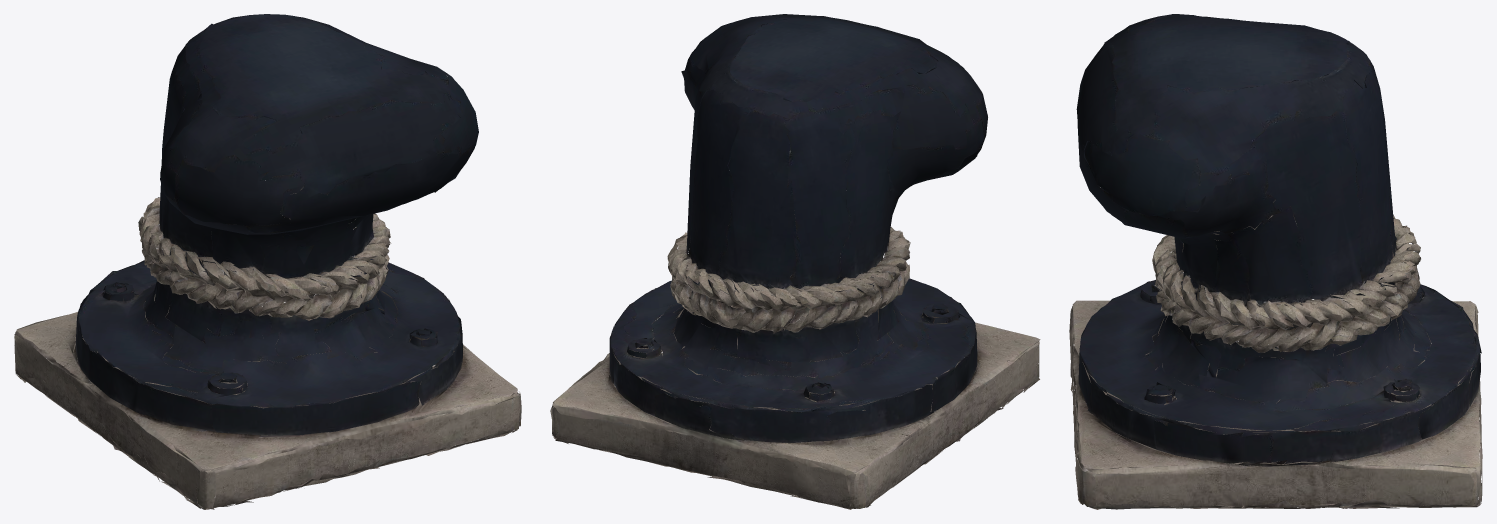
File: bollard.glb
3 renders of one model, left to right at view 1: azimuth 30°, elevation 25°; view 2: azimuth 150°, elevation 25°; view 3: azimuth 270°, elevation 25°, orthographic. The views are drawn at different scales.
Visible parts, largest first — view 1: Mesh_0; view 2: Mesh_0; view 3: Mesh_0.
Part boxes in pixels (x1,y1,x2,y2): Mesh_0: (14, 14, 521, 509); Mesh_0: (550, 14, 1040, 509); Mesh_0: (1069, 14, 1482, 509).
Size of the model in its own units: 0.9459 by 1 by 0.9761.
1 material, 1 textured.
